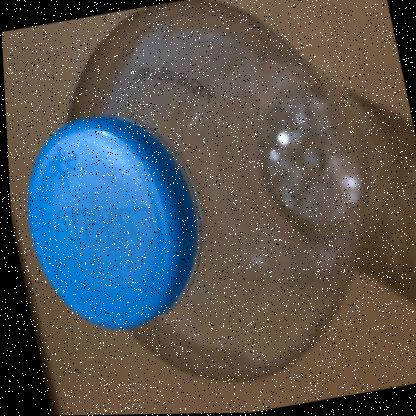bottle cap: (1, 1, 399, 416)
